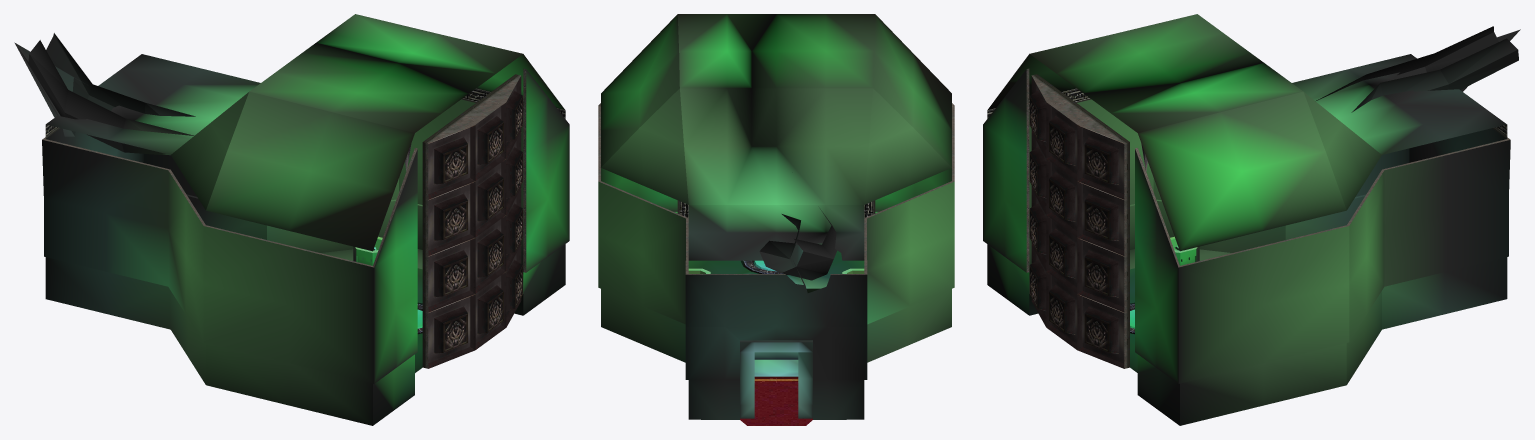
3 views of the same model, side by side, from view 1: azimuth 30°, elevation 25°; view 2: azimuth 150°, elevation 25°; view 3: azimuth 270°, elevation 25° (orthographic). The views are drawn at different scales.
Visible parts, largest first — view 1: node-002DDD97, node-000D354D, node-0076DFBB, node-037E3FB4, node-028367D9, node-03703D54, node-029C0411, node-0393DBE7; view 2: node-000D354D, node-002DDD97, node-037E3FB4, node-037FCE30, node-028367D9, node-035D49A1, node-0393DBE7, node-03703D54, node-01C89425; view 3: node-002DDD97, node-000D354D, node-0076DFBB, node-037E3FB4, node-028367D9, node-03703D54, node-0393DBE7.
Boxes of the visible parts, left/top/right/bottom form: node-002DDD97: left=42, top=69, right=569, bottom=383; node-000D354D: left=46, top=14, right=564, bottom=251; node-0076DFBB: left=428, top=76, right=522, bottom=368; node-037E3FB4: left=45, top=194, right=565, bottom=425; node-028367D9: left=28, top=33, right=195, bottom=155; node-03703D54: left=42, top=68, right=526, bottom=368; node-029C0411: left=14, top=42, right=84, bottom=116; node-0393DBE7: left=415, top=268, right=523, bottom=372; node-000D354D: left=601, top=14, right=951, bottom=260; node-002DDD97: left=598, top=168, right=954, bottom=419; node-037E3FB4: left=601, top=211, right=951, bottom=362; node-037FCE30: left=740, top=340, right=812, bottom=418; node-028367D9: left=759, top=209, right=837, bottom=280; node-035D49A1: left=740, top=376, right=812, bottom=425; node-0393DBE7: left=688, top=250, right=864, bottom=292; node-03703D54: left=598, top=103, right=954, bottom=274; node-01C89425: left=754, top=359, right=798, bottom=371; node-002DDD97: left=983, top=69, right=1510, bottom=383; node-000D354D: left=987, top=14, right=1506, bottom=251; node-0076DFBB: left=1029, top=76, right=1124, bottom=368; node-037E3FB4: left=987, top=194, right=1507, bottom=425; node-028367D9: left=1316, top=26, right=1518, bottom=112; node-03703D54: left=1026, top=68, right=1510, bottom=368; node-0393DBE7: left=1029, top=268, right=1137, bottom=372.
Size of the model in its own units: 592 by 364 by 670.
